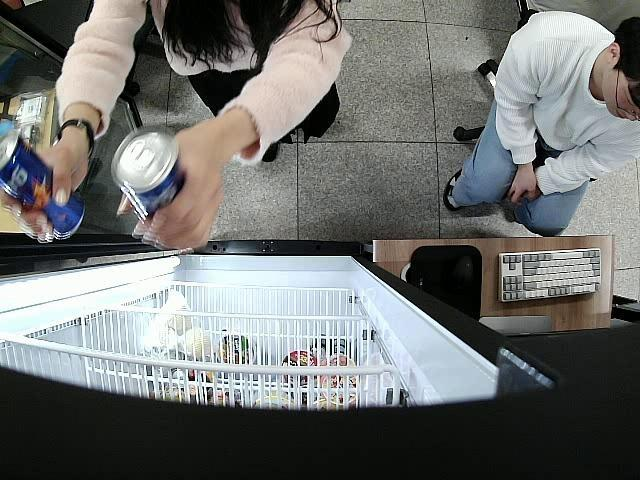16_hot6: (0, 132, 87, 238), (114, 126, 184, 222)
